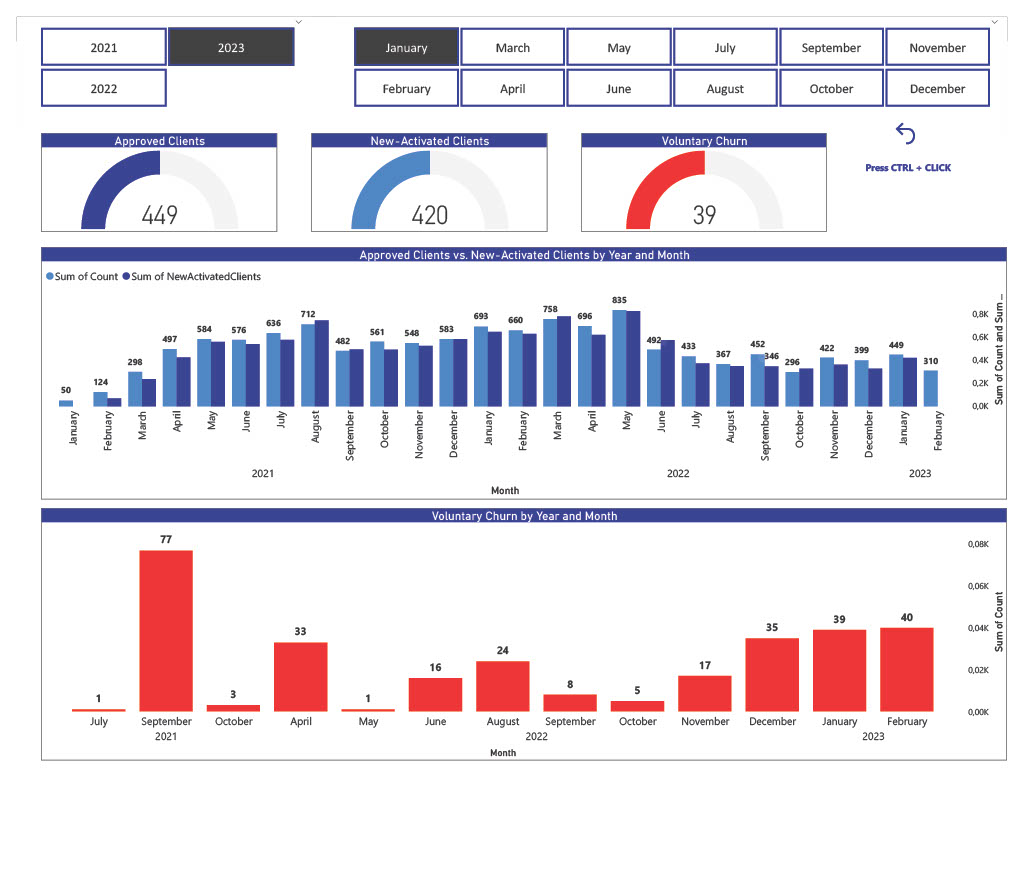

Layout of this report page (visuals, bound fields, positions):
{"tool":"powerbi","page":{"name":"Approved Clients","canvas":[1400,1200],"ordinal":9},"visuals":[{"type":"group","id":"g1","title":"Group 1","box":[7.6,0,1392.4,133.6],"z":0},{"type":"slicer","fields":{"Values":["CalendarTable.Date.Variation.Date Hierarchy.Year"]},"box":[7.6,0,408.4,133.6],"z":0,"group":"g1"},{"type":"slicer","fields":{"Values":["CalendarTable.Date.Variation.Date Hierarchy.Month"]},"box":[450.7,0,949.3,133.6],"z":1000,"group":"g1"},{"type":"textbox","box":[1191.5,197.7,143.4,40.2],"z":1000},{"type":"actionButton","box":[1236,144.5,53.2,40.2],"z":2000},{"type":"group","id":"g2","title":"Group 3","box":[34,324.6,1366.3,726.4],"z":3000},{"type":"gauge","title":"Voluntary Churn (Count)","fields":{"Y":["Sum(ClosedCards.Count)"]},"box":[797.5,163.8,347.8,140.6],"z":4000},{"type":"gauge","title":"New-Activated Clients (Count)","fields":{"Y":["Sum(NewActivatedClients.NewActivatedClients)"]},"box":[416,162.9,333.4,141.2],"z":5000},{"type":"clusteredColumnChart","title":"Approved Clients vs. New-Activated Clients by Year and Month (Count)","fields":{"Category":["Calendar.Date.Variation.Date Hierarchy.Year","Calendar.Date.Variation.Date Hierarchy.Month"],"Y":["Sum(ApprovedClients.Count)","Sum(NewActivatedClients.NewActivatedClients)"]},"box":[34,324.6,1366.3,357],"z":5000,"group":"g2"},{"type":"gauge","title":"Approved Clients (Count)","fields":{"Y":["Sum(ApprovedClients.Count)"]},"box":[33.7,164,333.4,141.2],"z":6000},{"type":"clusteredColumnChart","title":"Voluntary Churn by Year and Month (Count)","fields":{"Category":["Calendar.Date.Variation.Date Hierarchy.Year","Calendar.Date.Variation.Date Hierarchy.Month"],"Y":["Sum(ClosedCards.Count)"]},"box":[34,694,1366.3,357],"z":7000,"group":"g2"}]}

Visuals, with their boxes in screenshot pixels (x1, y1, x2, y2), scaled from the page's 1400x1200 canvas onto the 1024x883 screenshot:
"Group 1" group: bbox=(6, 0, 1023, 98)
slicer - CalendarTable.Date.Variation.Date Hierarchy.Year: bbox=(6, 0, 304, 98)
slicer - CalendarTable.Date.Variation.Date Hierarchy.Month: bbox=(330, 0, 1023, 98)
textbox: bbox=(871, 145, 976, 175)
actionButton: bbox=(904, 106, 943, 136)
"Group 3" group: bbox=(25, 239, 1023, 773)
"Voluntary Churn (Count)" gauge: bbox=(583, 121, 838, 224)
"New-Activated Clients (Count)" gauge: bbox=(304, 120, 548, 224)
"Approved Clients vs. New-Activated Clients by Year and Month (Count)" clusteredColumnChart: bbox=(25, 239, 1023, 502)
"Approved Clients (Count)" gauge: bbox=(25, 121, 269, 225)
"Voluntary Churn by Year and Month (Count)" clusteredColumnChart: bbox=(25, 511, 1023, 773)
